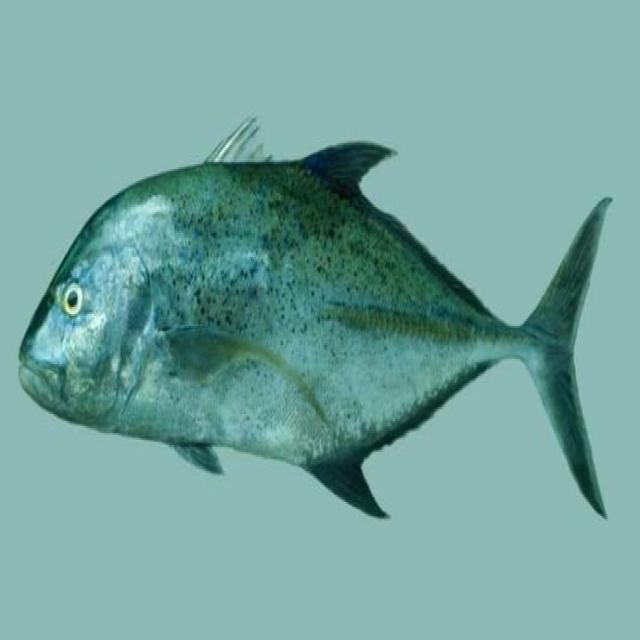ikan: (7, 82, 629, 566)
